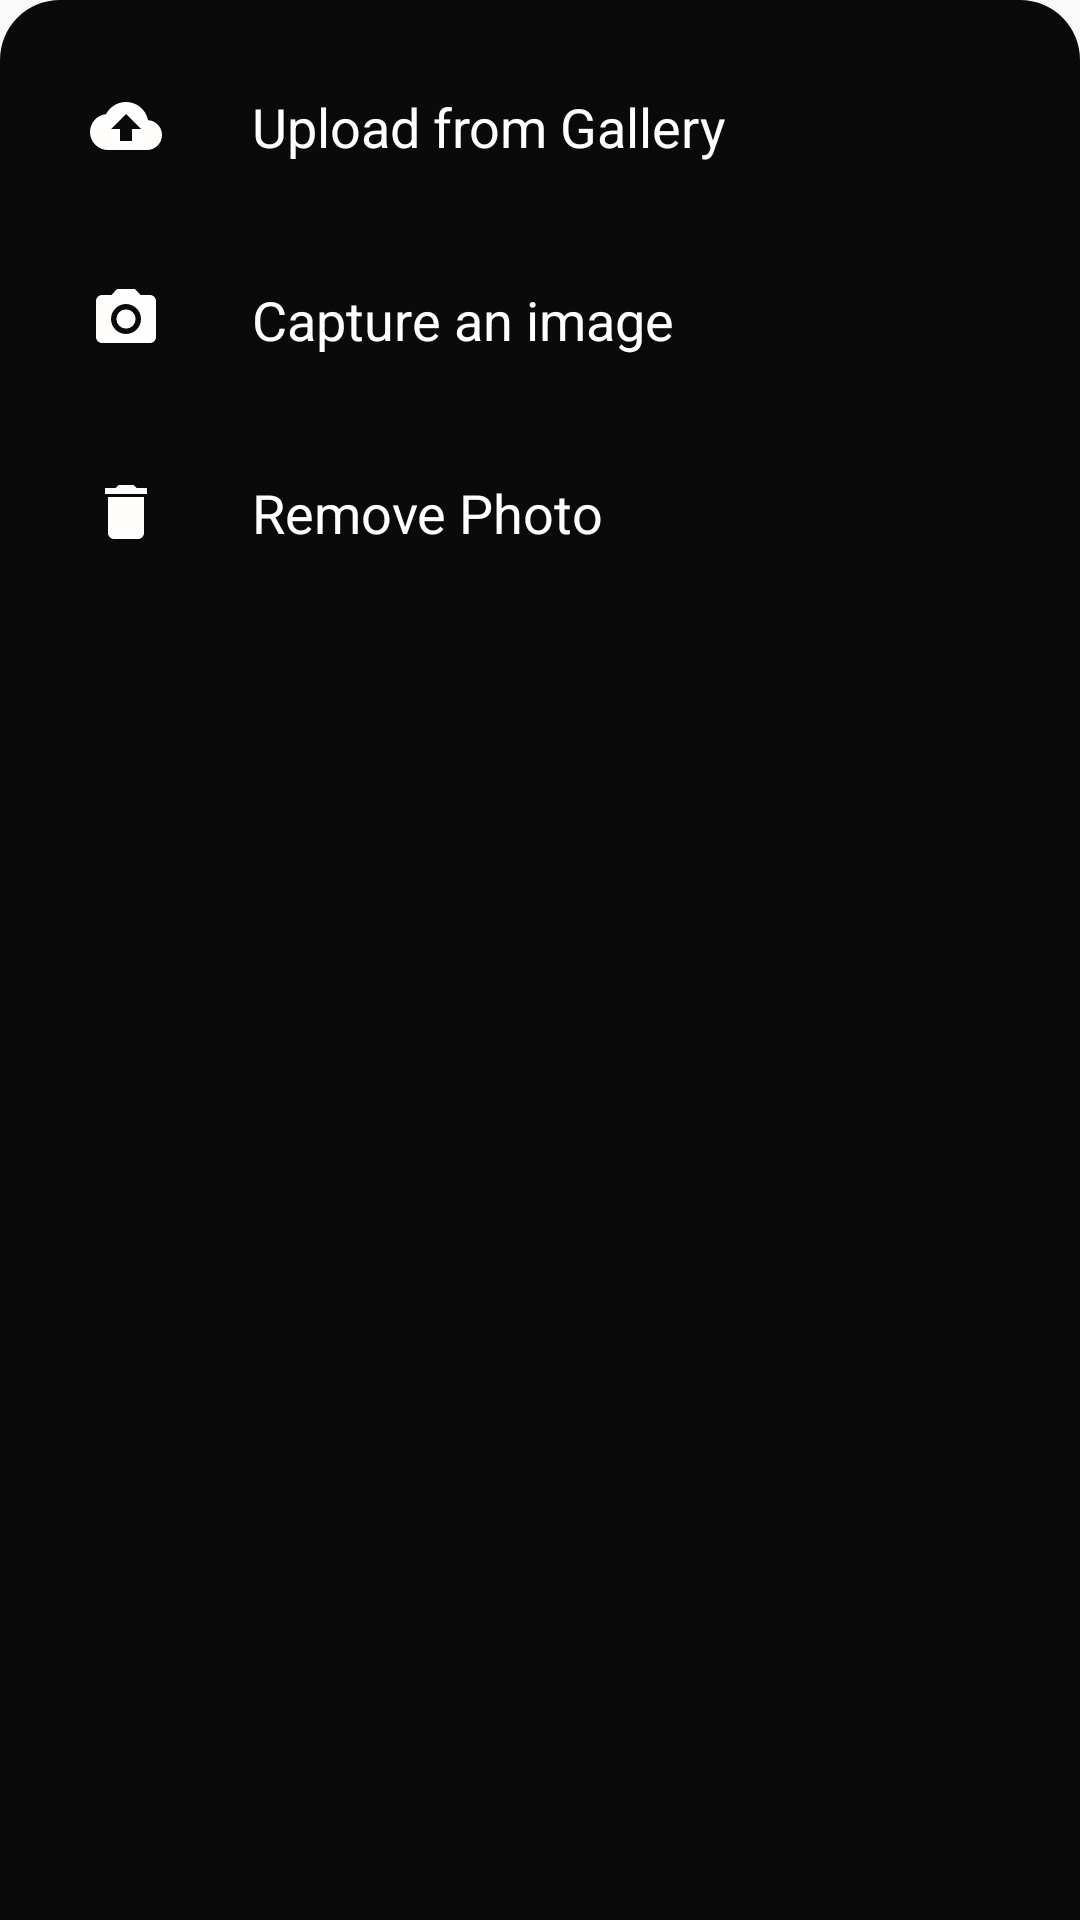

Screen size 1080×1920. Icon name, then its center in pixels as point (x, y):
cloud upload: point (126, 126)
delete: point (126, 512)
photo camera: point (126, 316)
